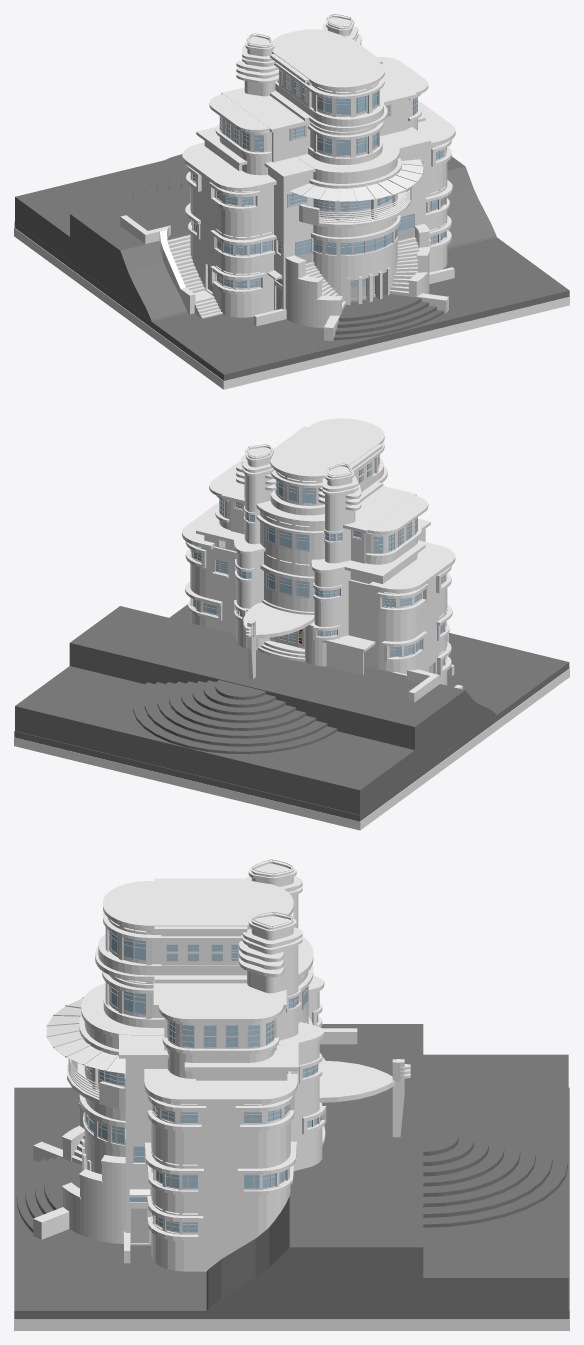
The model's file is Testing2_ISOLA.gltf.
3 views of the same model, one above another, from view 1: azimuth 30°, elevation 25°; view 2: azimuth 150°, elevation 25°; view 3: azimuth 270°, elevation 25° (orthographic). The views are drawn at different scales.
Visible parts, largest first — view 1: Cube032, Cube110, Cube002, Cube011, Cube015, Cube007, Cube, Circle, Cylinder003, Cube003, Cube005, Cylinder002 (+29 smaller); view 2: Cube032, Cylinder006, Cube110, Cube002, Cube011, Cube015, Cube007, Cube018, Cube168, Cube003, Cube005, Cube006 (+17 smaller); view 3: Cube032, Cube110, Cube002, Cylinder006, Cube015, Cube011, Circle, Cube003, Cube, Cylinder003, Cube005, Cylinder002 (+36 smaller).
Boxes of the visible parts, x1,y1,x2,y2 form: Cube032: (15, 156, 496, 321); Cube110: (14, 221, 569, 380); Cube002: (190, 144, 447, 317); Cube011: (14, 227, 569, 389); Cube015: (272, 29, 384, 90); Cube007: (313, 159, 397, 304); Cube: (268, 145, 425, 310); Circle: (285, 224, 429, 328); Cylinder003: (333, 294, 443, 340); Cube003: (182, 101, 455, 191); Cube005: (221, 71, 416, 132); Cylinder002: (290, 159, 423, 201); Cube032: (15, 606, 496, 814); Cylinder006: (133, 680, 337, 754); Cube110: (14, 604, 569, 821); Cube002: (190, 545, 447, 685); Cube011: (14, 668, 569, 830); Cube015: (270, 418, 384, 479); Cube007: (260, 511, 324, 648); Cube018: (244, 468, 355, 563); Cube168: (236, 551, 350, 627); Cube003: (182, 502, 455, 592); Cube005: (221, 483, 416, 533); Cube006: (209, 460, 428, 534); Cube032: (206, 1024, 568, 1310); Cube110: (14, 1087, 569, 1319); Cube002: (151, 1071, 290, 1271); Cylinder006: (423, 1101, 567, 1227); Cube015: (103, 881, 293, 929); Cube011: (14, 1096, 569, 1330); Circle: (61, 1103, 125, 1243); Cube003: (144, 1069, 297, 1104); Cube: (125, 1058, 167, 1245); Cylinder003: (16, 1156, 81, 1232); Cube005: (153, 980, 286, 1008); Cylinder002: (46, 997, 125, 1073).
Bounding box in the file's own units: 4.39 × 2.99 × 4.61.
